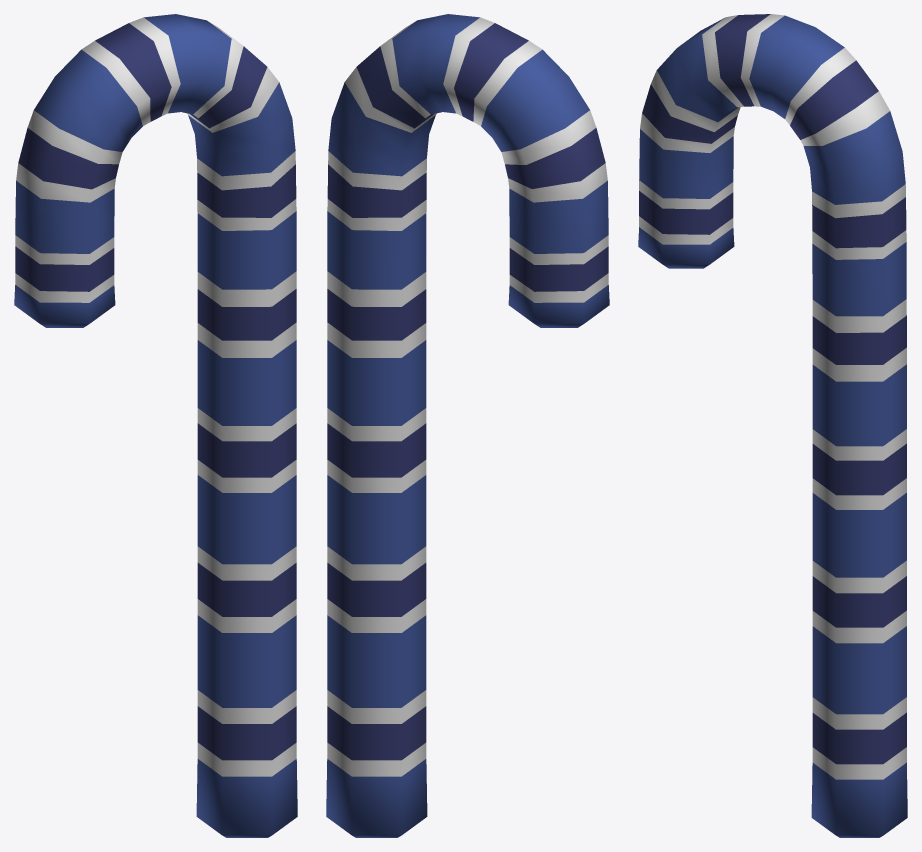
File: CandyCane_02.fbx
3 views of the same model, side by side, from view 1: azimuth 30°, elevation 25°; view 2: azimuth 150°, elevation 25°; view 3: azimuth 330°, elevation 25° (orthographic). The views are drawn at different scales.
Visible parts, largest first — view 1: CandyCane_02; view 2: CandyCane_02; view 3: CandyCane_02.
Boxes of the visible parts, x1=… form: CandyCane_02: x1=14, y1=14, x2=297, y2=837; CandyCane_02: x1=326, y1=14, x2=609, y2=837; CandyCane_02: x1=638, y1=14, x2=907, y2=837.
Size of the model in its own units: 0.0865 by 0.262 by 0.0294.
